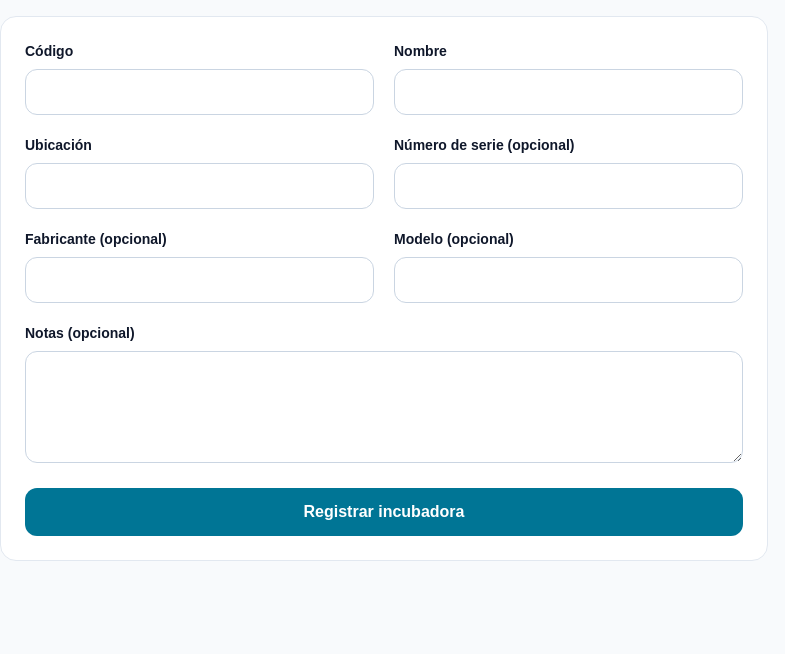
Test case: Incubators UI › maps conflict to a safe message
The width and height of the screenshot is (785, 654).
Type "INC-001" into the field labelled "Código" at coordinates (200, 92), box [25,69,374,115]
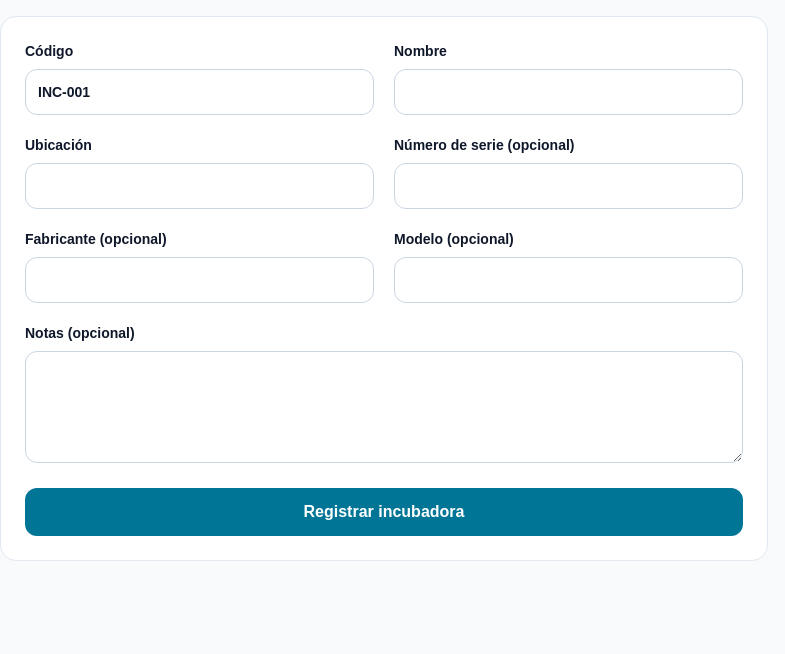
Type "Incubadora 1" into the field labelled "Nombre" at coordinates (568, 92), box [394,69,743,115]
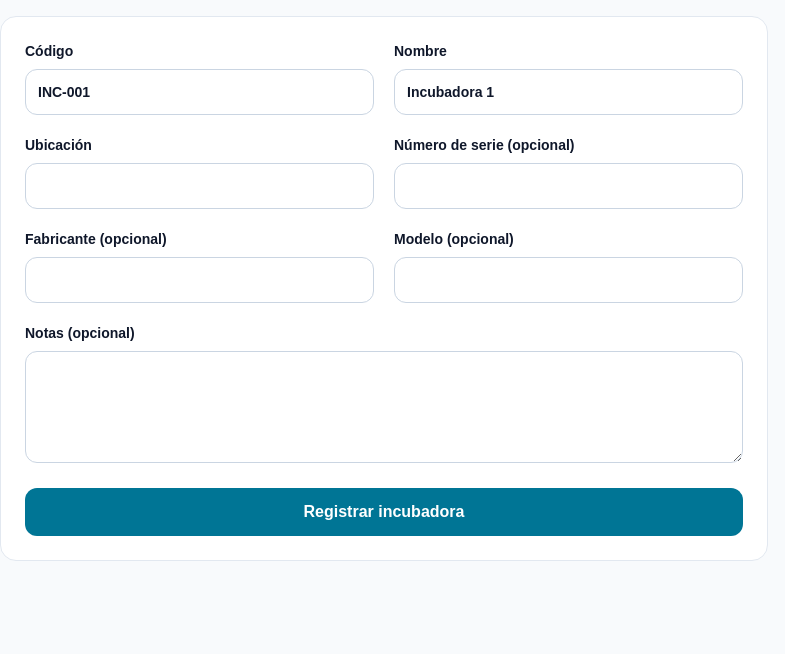
Type "UCIN" into the field labelled "Ubicación" at coordinates (200, 186), box [25,163,374,209]
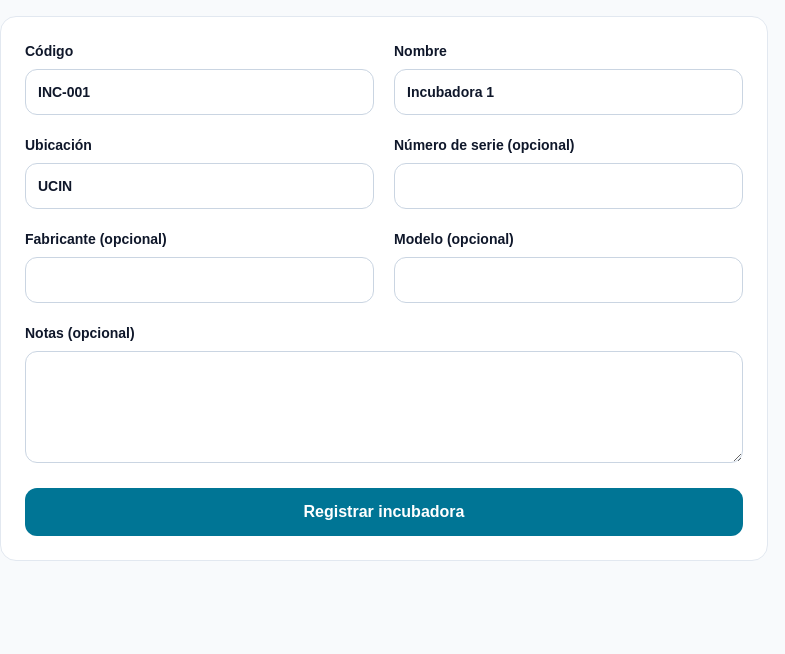
Submit the form named "Registrar incubadora"
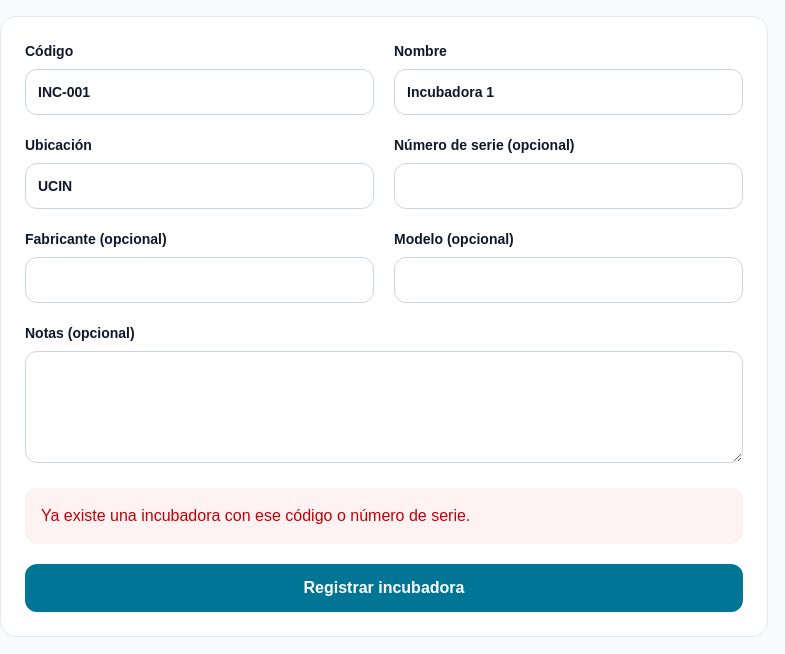
Expected: the message reads "Ya existe una incubadora con ese código o número de serie.", [41,507,470,524]
